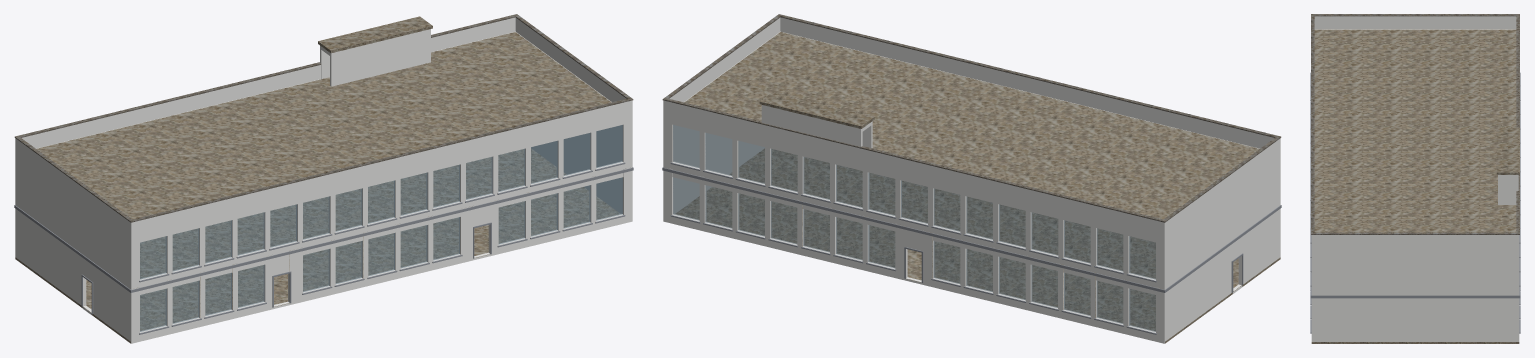
Rendered from air-terminal.zfix-v14.lod1.glb.
3 views of the same model, side by side, from view 1: azimuth 30°, elevation 25°; view 2: azimuth 150°, elevation 25°; view 3: azimuth 270°, elevation 25° (orthographic). The views are drawn at different scales.
Visible parts, largest first — view 1: air-terminal; view 2: air-terminal; view 3: air-terminal.
Boxes of the visible parts, left/top/right/bottom form: air-terminal: left=14, top=14, right=633, bottom=343; air-terminal: left=662, top=14, right=1281, bottom=343; air-terminal: left=1310, top=14, right=1520, bottom=343.
Size of the model in its own units: 40.12 by 10.97 by 16.2.
3 materials, 1 textured.
